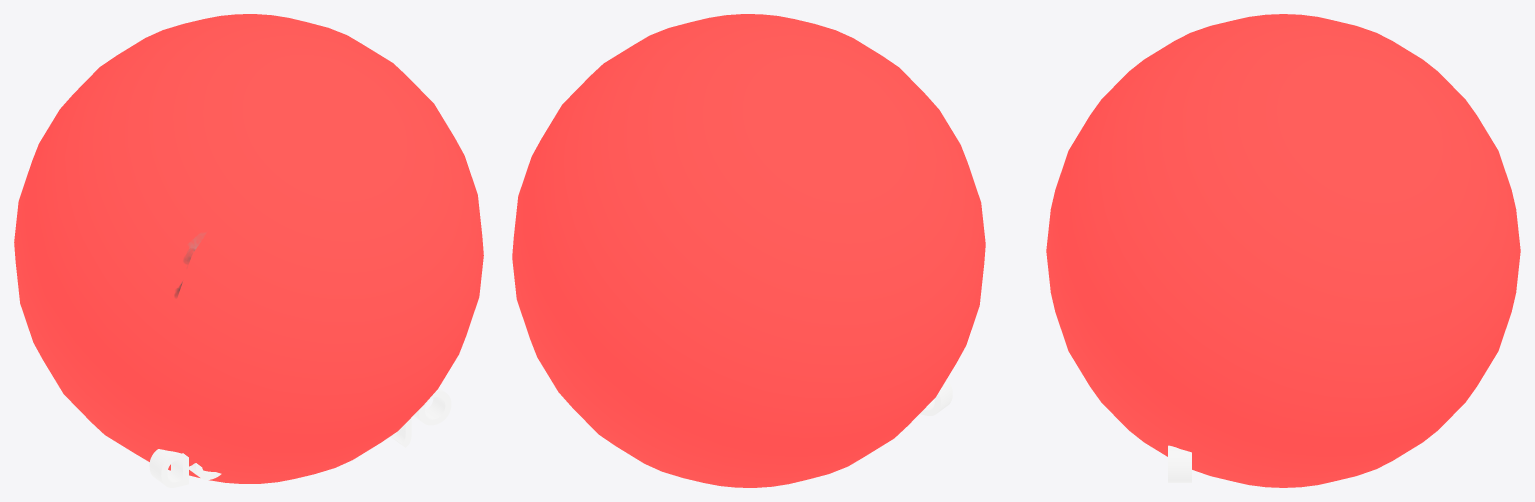
Rendered from filtro-de-ar-sujo.glb.
3 views of the same model, side by side, from view 1: azimuth 30°, elevation 25°; view 2: azimuth 150°, elevation 25°; view 3: azimuth 270°, elevation 25° (orthographic).
Visible parts, largest first — view 1: Sphere.031, Text.032; view 2: Sphere.031, Text.032; view 3: Sphere.031, Text.032.
Boxes of the visible parts, left/top/right/bottom form: Sphere.031: left=14, top=14, right=483, bottom=483; Text.032: left=149, top=388, right=451, bottom=487; Sphere.031: left=512, top=14, right=985, bottom=487; Text.032: left=920, top=379, right=952, bottom=415; Sphere.031: left=1046, top=14, right=1520, bottom=487; Text.032: left=1168, top=445, right=1191, bottom=482.
Size of the model in its own units: 5.15 by 5.15 by 5.15.
Materials: 5 (1 with a texture image).
